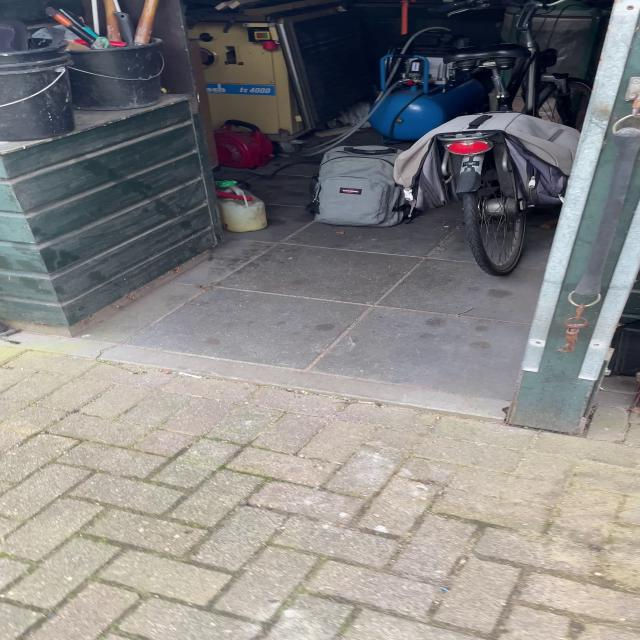backpack: (308, 141, 412, 229)
